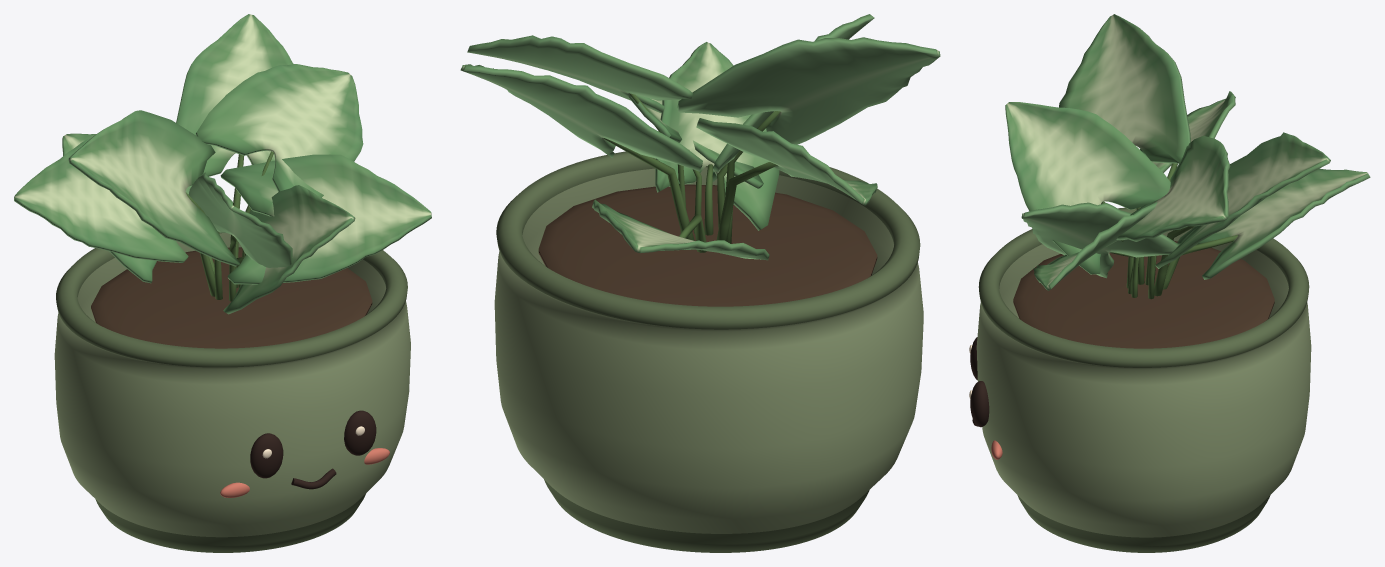
File: arrowhead-plant-v1.glb
The picture shows the model from 3 angles, left to right: view 1: azimuth 30°, elevation 25°; view 2: azimuth 150°, elevation 25°; view 3: azimuth 270°, elevation 25°; orthographic projection. The views are drawn at different scales.
Parts seen in each view (by area): view 1: Wheel-thrown ceramic, Soil, Juvenile Arrowhead lamina 6, Juvenile Arrowhead lamina 2, Juvenile Arrowhead lamina 3, Juvenile Arrowhead lamina 7, Juvenile Arrowhead lamina 1, Juvenile Arrowhead lamina 8, Juvenile Arrowhead lamina 5, Eye, Eye.001, Juvenile Arrowhead lamina 4; view 2: Wheel-thrown ceramic, Soil, Juvenile Arrowhead lamina 2, Juvenile Arrowhead lamina 1, Juvenile Arrowhead lamina 6, Juvenile Arrowhead lamina 8, Juvenile Arrowhead lamina 7, Juvenile Arrowhead lamina 4, Juvenile Arrowhead lamina 5, Juvenile Arrowhead lamina 3, Juvenile Arrowhead petiole 1, Juvenile Arrowhead petiole 7; view 3: Wheel-thrown ceramic, Soil, Juvenile Arrowhead lamina 5, Juvenile Arrowhead lamina 2, Juvenile Arrowhead lamina 6, Juvenile Arrowhead lamina 4, Juvenile Arrowhead lamina 1, Juvenile Arrowhead lamina 8, Juvenile Arrowhead lamina 3, Juvenile Arrowhead lamina 7, Eye.001, Juvenile Arrowhead petiole 4.
Boxes of the visible parts, <box> form: Wheel-thrown ceramic: <box>54,232,410,552</box>; Soil: <box>91,247,372,348</box>; Juvenile Arrowhead lamina 6: <box>195,64,363,197</box>; Juvenile Arrowhead lamina 2: <box>68,110,239,266</box>; Juvenile Arrowhead lamina 3: <box>220,154,431,284</box>; Juvenile Arrowhead lamina 7: <box>14,138,188,262</box>; Juvenile Arrowhead lamina 1: <box>176,14,293,176</box>; Juvenile Arrowhead lamina 8: <box>223,185,355,314</box>; Juvenile Arrowhead lamina 5: <box>188,172,292,267</box>; Eye: <box>250,433,283,478</box>; Eye.001: <box>344,410,376,455</box>; Juvenile Arrowhead lamina 4: <box>62,133,232,283</box>; Wheel-thrown ceramic: <box>494,151,923,552</box>; Soil: <box>538,184,877,306</box>; Juvenile Arrowhead lamina 2: <box>677,37,940,144</box>; Juvenile Arrowhead lamina 1: <box>460,64,702,171</box>; Juvenile Arrowhead lamina 6: <box>467,35,692,113</box>; Juvenile Arrowhead lamina 8: <box>655,42,779,230</box>; Juvenile Arrowhead lamina 7: <box>696,118,877,205</box>; Juvenile Arrowhead lamina 4: <box>592,199,769,260</box>; Juvenile Arrowhead lamina 5: <box>712,14,874,181</box>; Juvenile Arrowhead lamina 3: <box>628,96,763,188</box>; Juvenile Arrowhead petiole 1: <box>603,138,694,240</box>; Juvenile Arrowhead petiole 7: <box>716,162,777,241</box>; Wheel-thrown ceramic: <box>976,207,1311,552</box>; Soil: <box>1013,240,1274,348</box>; Juvenile Arrowhead lamina 5: <box>1005,102,1170,274</box>; Juvenile Arrowhead lamina 2: <box>1059,14,1190,203</box>; Juvenile Arrowhead lamina 6: <box>1104,135,1230,241</box>; Juvenile Arrowhead lamina 4: <box>1177,168,1370,279</box>; Juvenile Arrowhead lamina 1: <box>1155,132,1330,268</box>; Juvenile Arrowhead lamina 8: <box>1021,202,1178,278</box>; Juvenile Arrowhead lamina 3: <box>1033,202,1157,290</box>; Juvenile Arrowhead lamina 7: <box>1140,91,1235,172</box>; Eye.001: <box>970,381,989,427</box>; Juvenile Arrowhead petiole 4: <box>1163,235,1237,289</box>.
Bounding box in the file's own units: 1.74 × 2.02 × 1.79.
